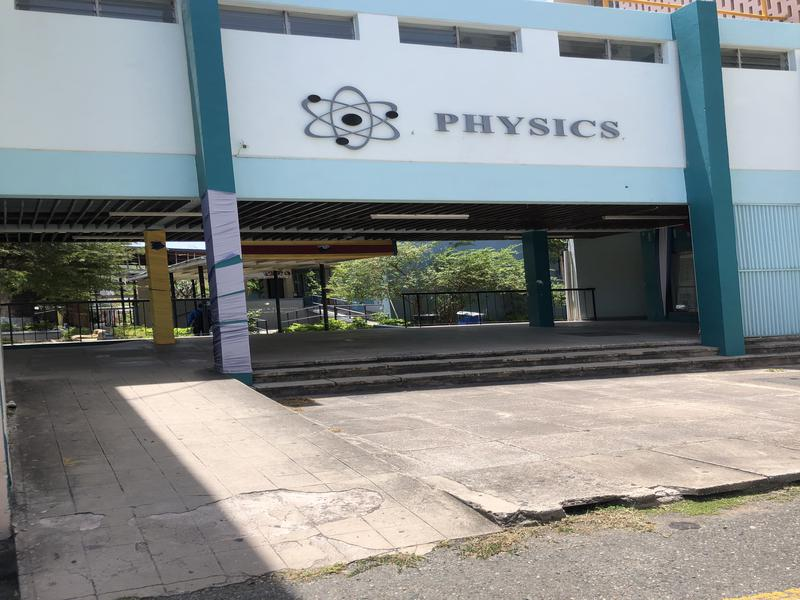18.0053657_-76.7491452_physicssign: (278, 78, 636, 151)
